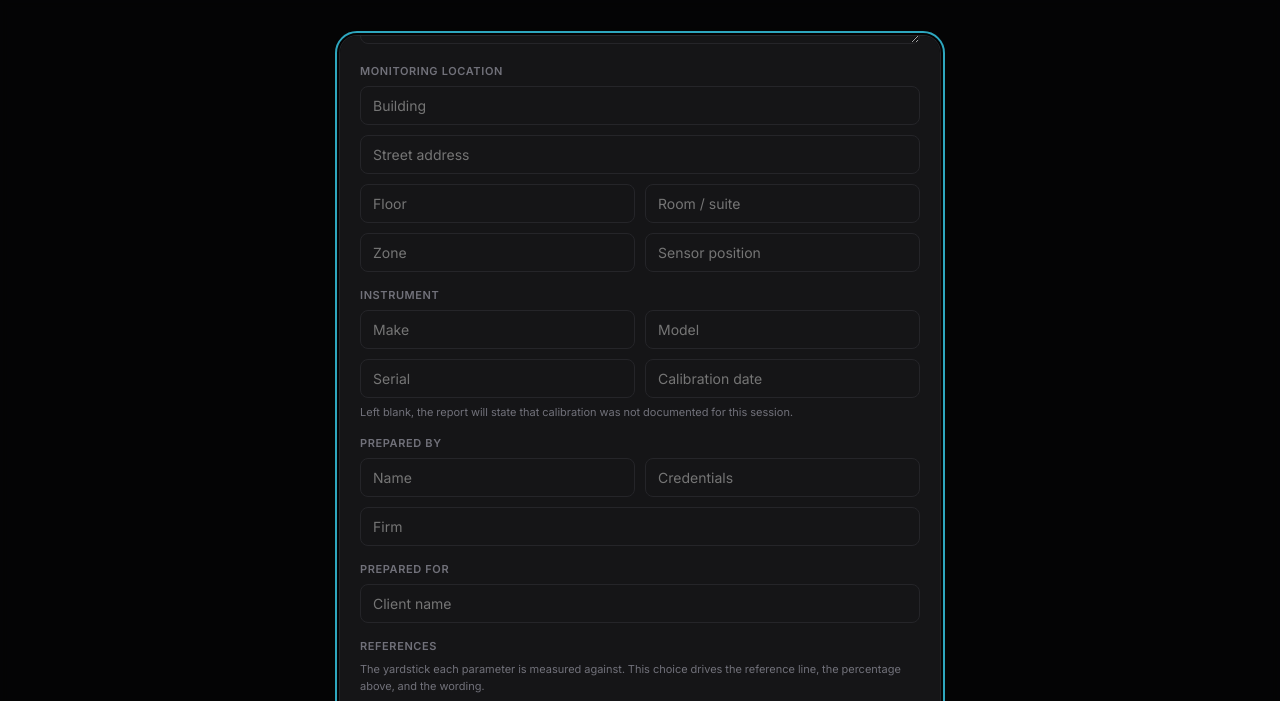
it: calibration is never silently absent › warns that a blank calibration will be stated in the report
This screenshot has width=1280, height=701.
(page scrolled)
Expected: the text "calibration was not documented" is shown, x1=360 y1=404 x2=793 y2=418
Type "2026-03-12" into the field with placeholder "Calibration date" at (782, 378), box x1=645 y1=358 x2=920 y2=398
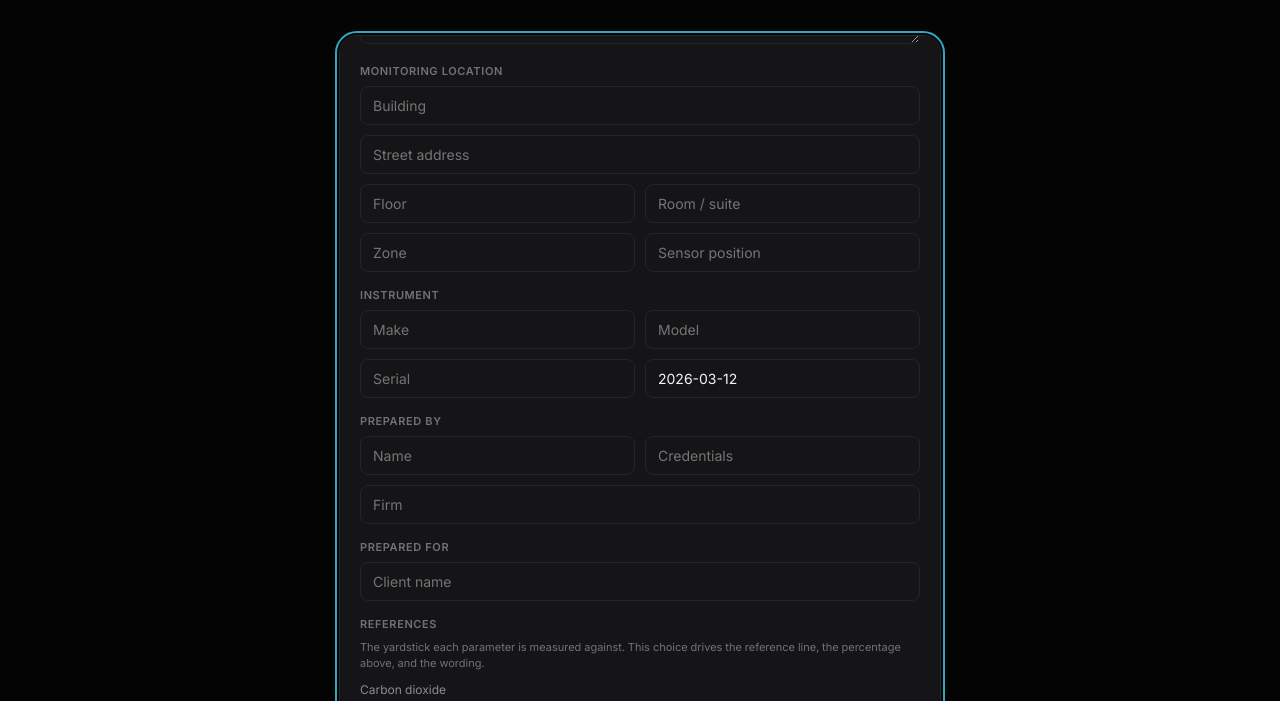
Expected: the text "calibration was not documented" is gone
